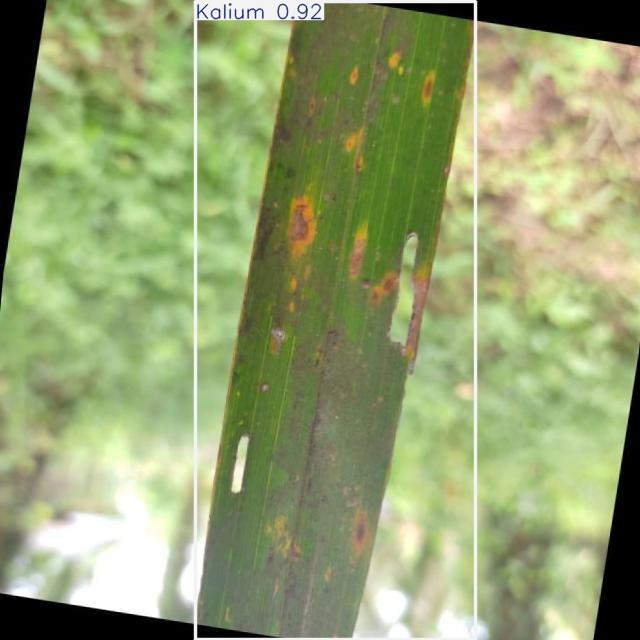Kalium: (196, 1, 476, 640)
